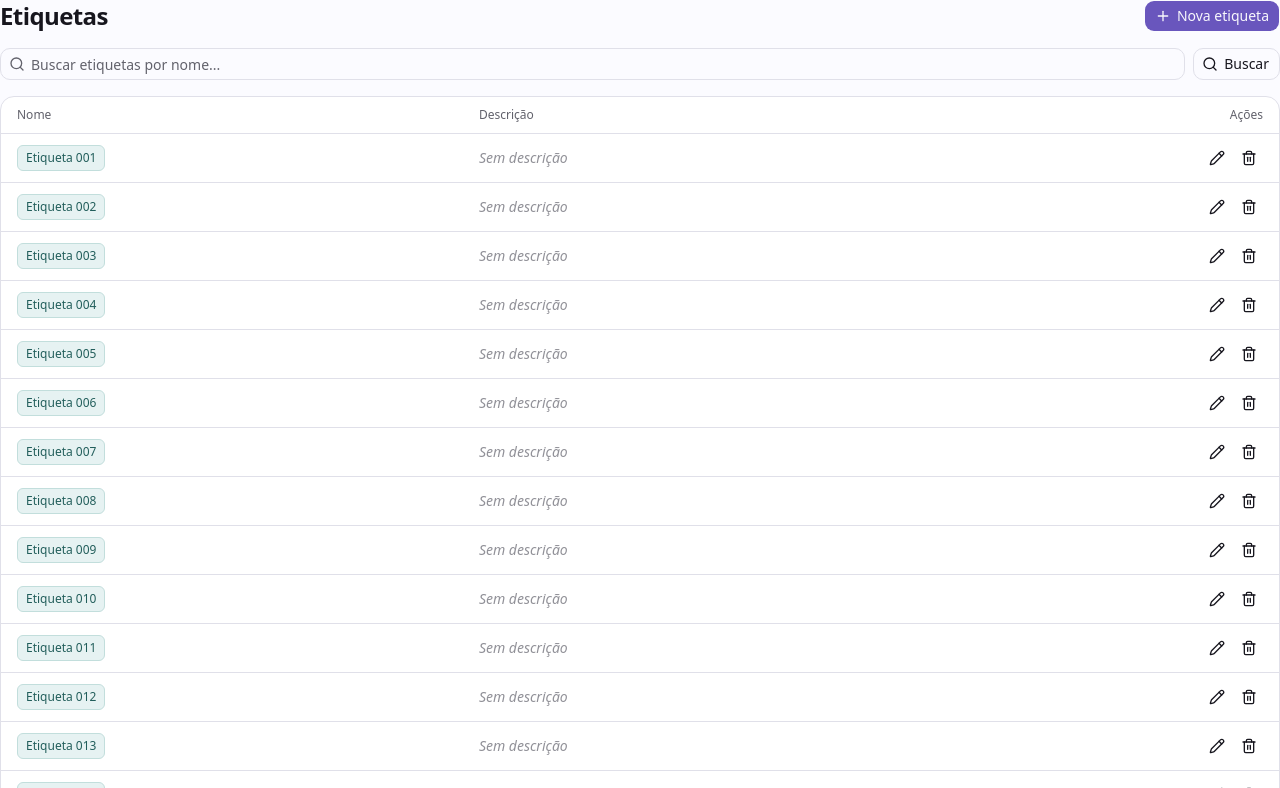
Test: TagListPage › paging › goes to the next page, keeping the search and the size, and writes all three into the address
The image size is (1280, 788).
Expected: the text "Etiqueta 001" is shown, [17, 145, 106, 171]
Type "etiqueta" into the field labelled "Buscar etiquetas por nome".
click(605, 64); type("etiqueta")  # box [25, 48, 1184, 80]
Then press Enter
(page scrolled)
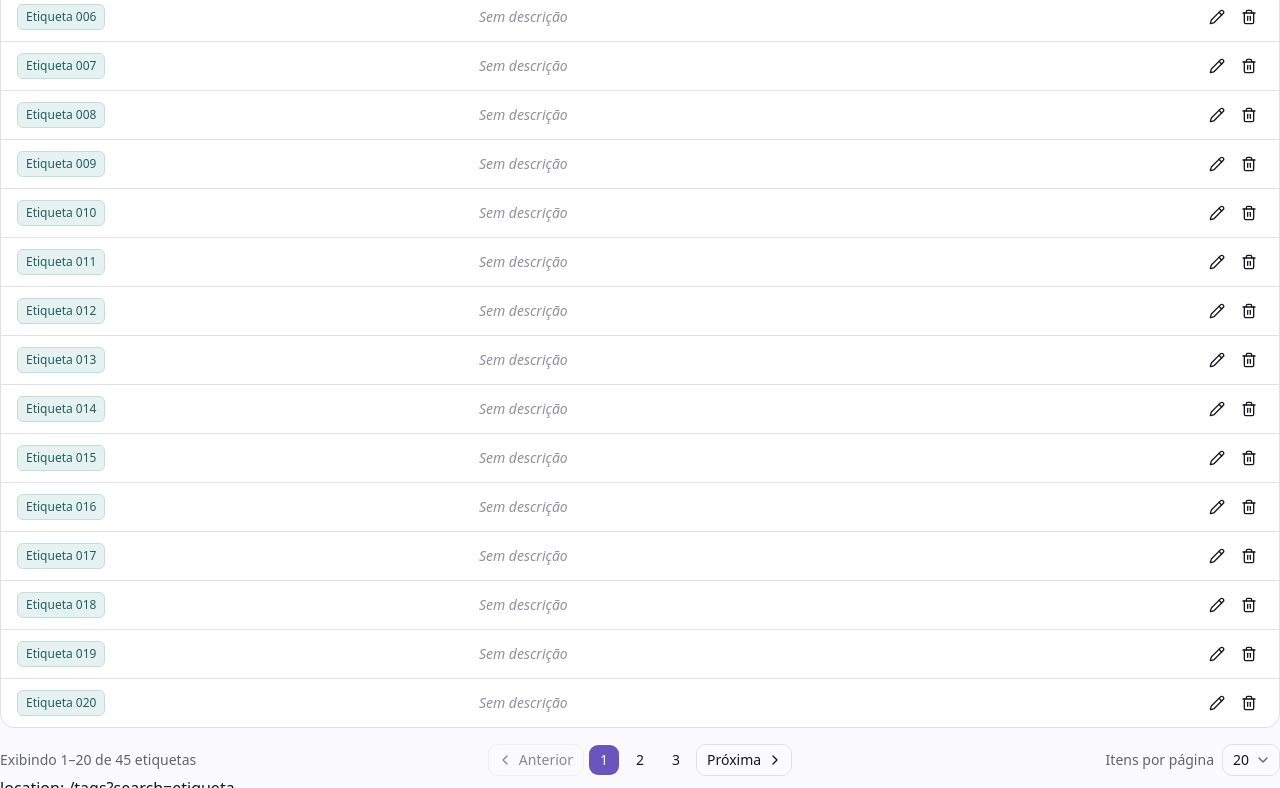
Click the dropdown named "Itens por página".
click(1251, 760)  # box [1222, 744, 1279, 776]
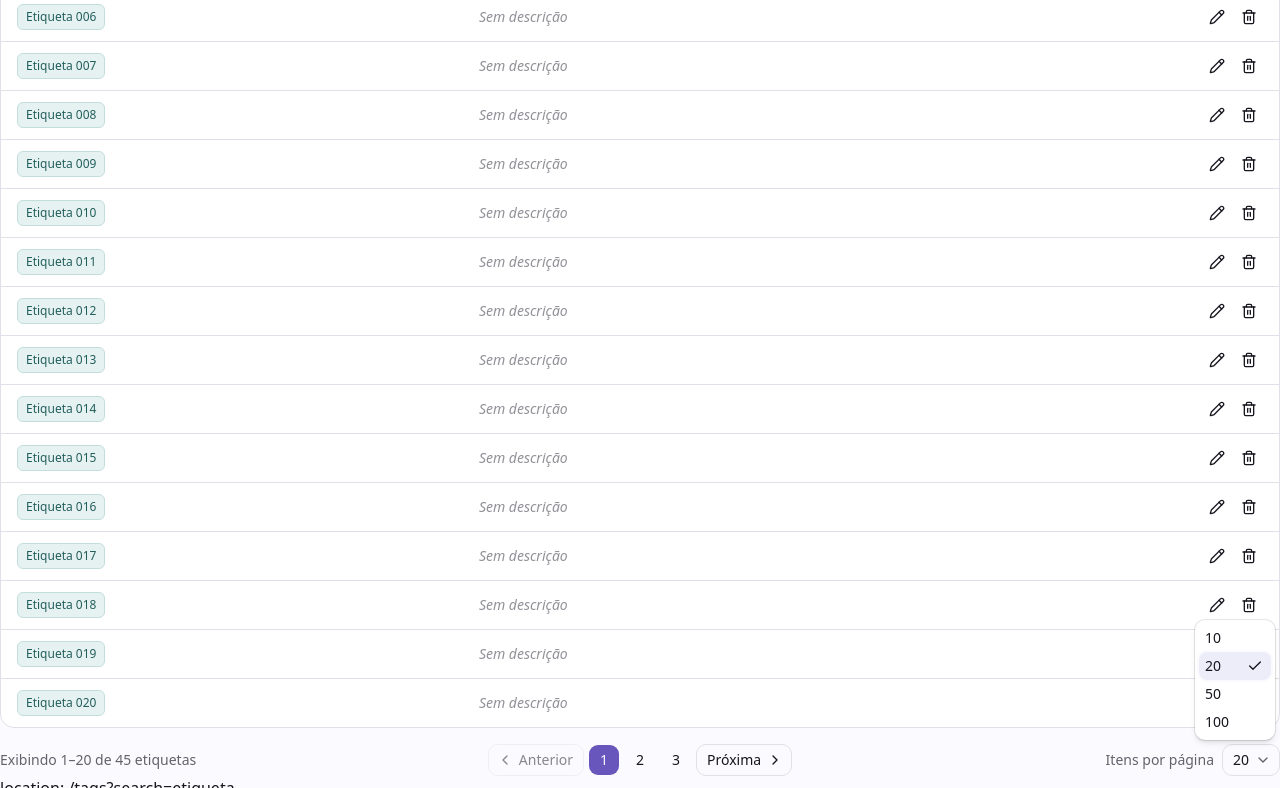
Click the option "10".
click(1213, 638)  # box [1205, 628, 1221, 647]
(page scrolled)
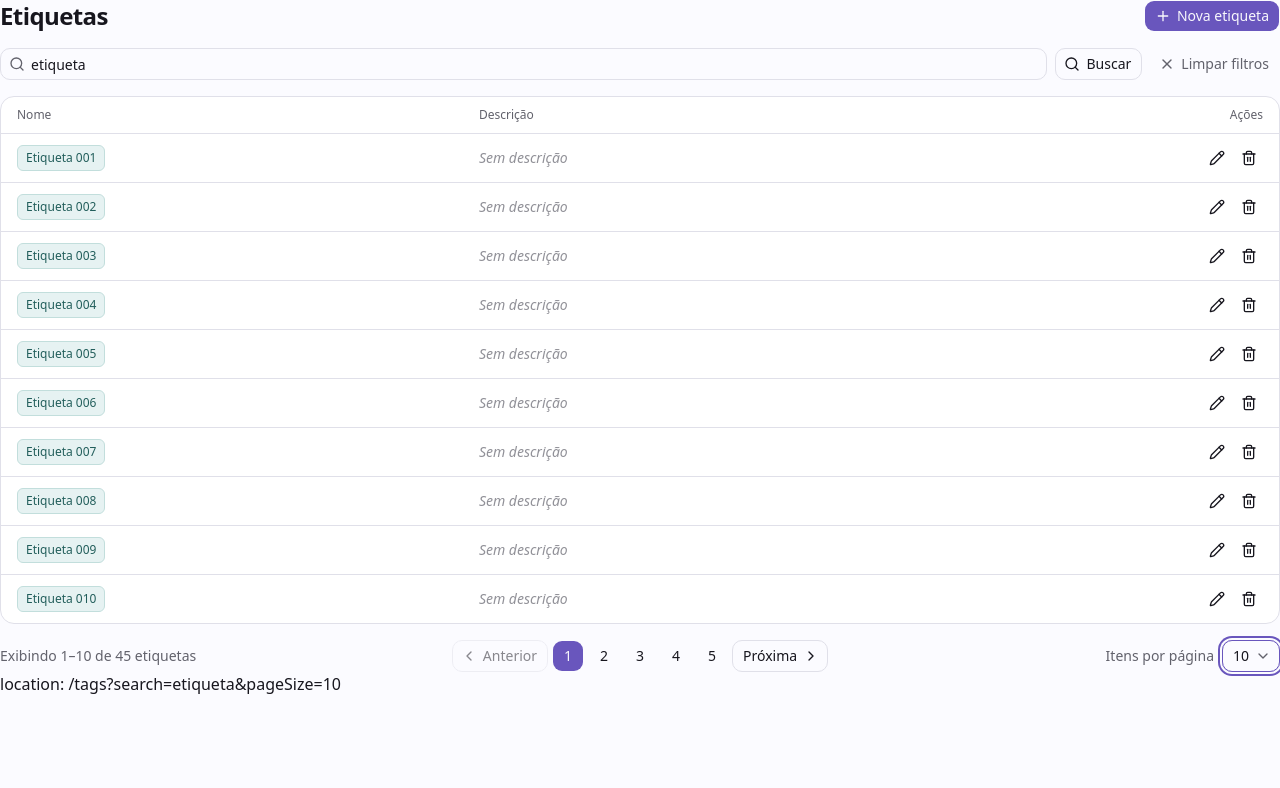
Click the button "Próxima".
click(780, 656)  # box [732, 640, 828, 672]
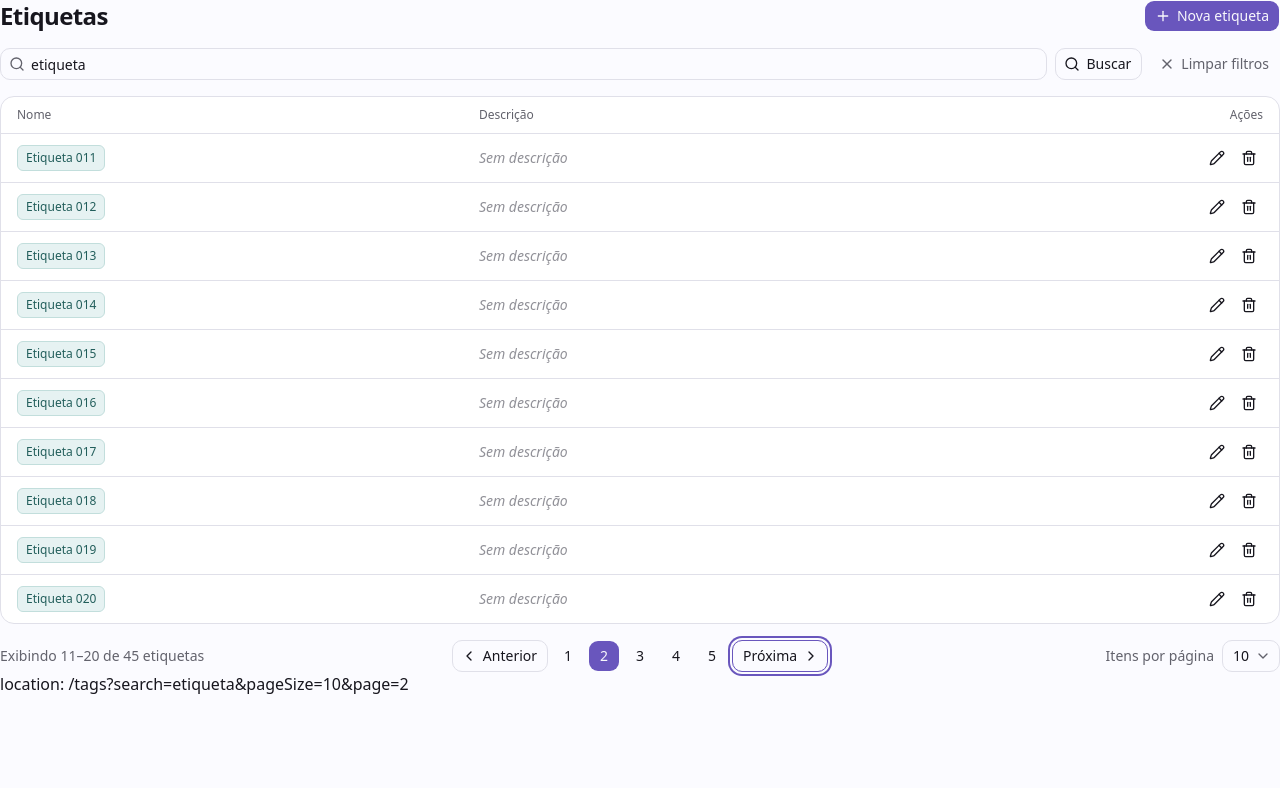
Expected: the text "Etiqueta 011" is shown, [17, 145, 106, 171]
Expected: the text "Etiqueta 001" is gone
Expected: the text with test id "location" reads "location: /tags?search=etiqueta&pageSize=10&page=2", [0, 673, 409, 695]
